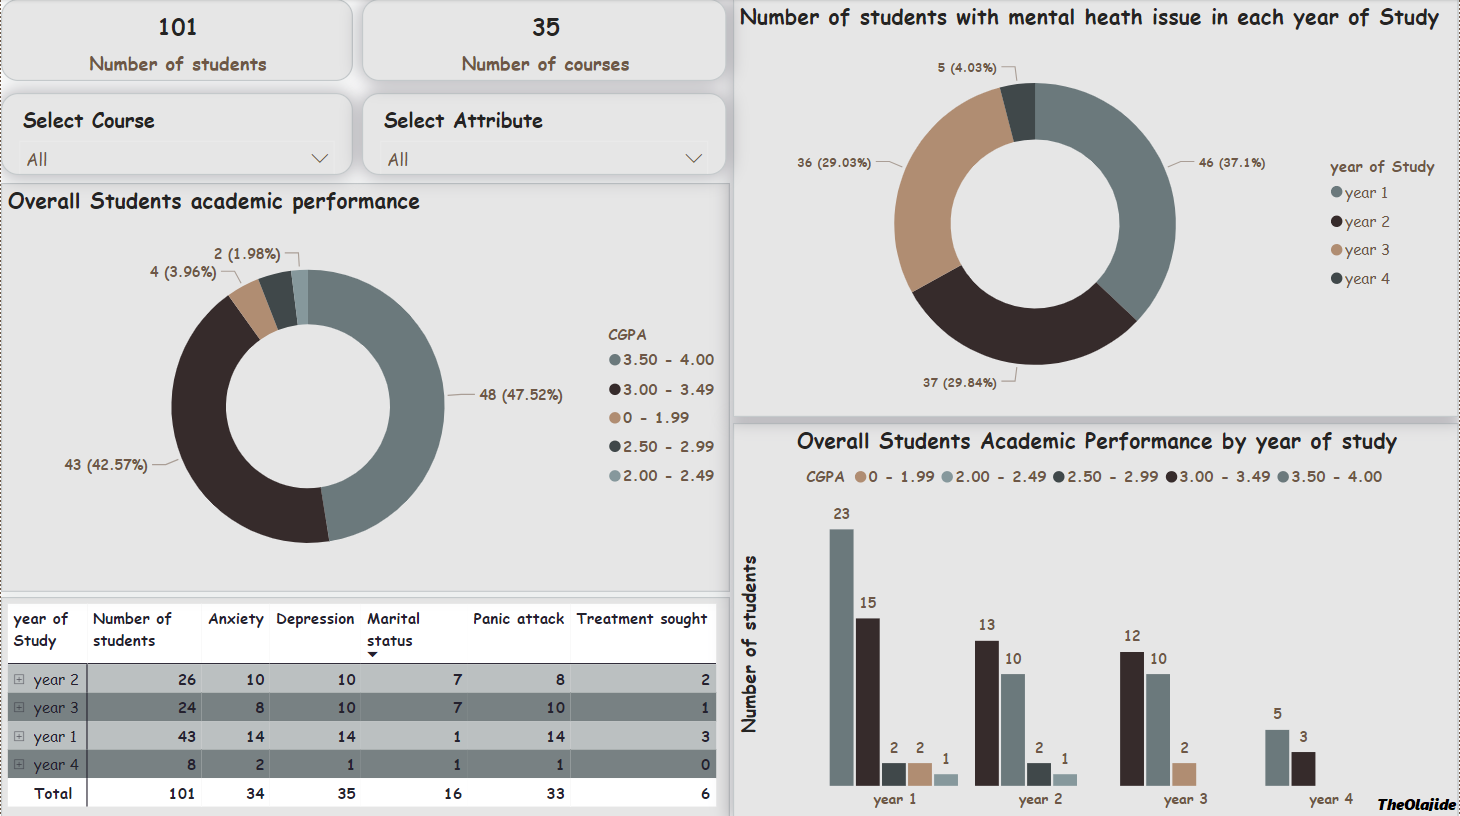

Layout of this report page (visuals, bound fields, positions):
{"tool":"powerbi","page":{"name":"Page 1","canvas":[1600,900],"ordinal":0},"visuals":[{"type":"donutChart","title":"Number of students with mental heath issue in each year of Study","fields":{"Category":["Student Mental health (2).year of Study"],"Y":["CountNonNull(Student Mental health (3).Attribute)"]},"box":[772,205.5,819.5,296.7],"z":0,"group":"g2"},{"type":"shape","box":[0,0,1600,81.5],"z":500,"group":"g1"},{"type":"pivotTable","title":"Mental Health Attributes","fields":{"Values":["CountNonNull(Student Mental health (2).Index)","Sum(Student Mental health (2).Anxiety2)","Sum(Student Mental health (2).Depression2)","Sum(Student Mental health (2).Marital status2)","Sum(Student Mental health (2).Panic attack2)","Sum(Student Mental health (2).Specialist treatment2)"],"Rows":["Student Mental health (2).year of Study","Student Mental health (2).gender"]},"box":[8.5,599.4,746.5,283.3],"z":2000},{"type":"donutChart","title":"Overall Students academic  performance","fields":{"Y":["CountNonNull(Student Mental health (2).Index)"],"Category":["Student Mental health (2).CGPA"]},"box":[8.8,205.2,746.3,378.7],"z":3000,"group":"g3"},{"type":"clusteredColumnChart","title":"Overall Students Academic Performance by year of study","fields":{"Category":["Student Mental health (2).year of Study"],"Y":["CountNonNull(Student Mental health (2).Index)"],"Series":["Student Mental health (2).CGPA"]},"box":[772,522.8,819.5,359.9],"z":4000},{"type":"slicer","fields":{"Values":["Student Mental health (2).course"]},"box":[1197.6,94.8,393.9,86.3],"z":5000},{"type":"card","title":"Total  Number of students","fields":{"Values":["CountNonNull(Student Mental health (2).Index)"]},"box":[8.5,94.8,362.3,86.3],"z":6000},{"type":"slicer","fields":{"Values":["Student Mental health (3).Attribute"]},"box":[773.3,94.8,408.5,86.3],"z":7000},{"type":"card","fields":{"Values":["Count(Student Mental health (2).course)"]},"box":[381.8,94.8,373.3,86.3],"z":8000},{"type":"image","box":[1033.4,7.3,62,68.1],"z":9000,"group":"g1"},{"type":"image","box":[1086.9,336.8,76.6,70.5],"z":10000,"group":"g2"},{"type":"group","id":"g1","title":"Group 2","box":[0,0,1600,81.5],"z":10002},{"type":"group","id":"g2","title":"Group 1","box":[772,205.5,819.5,296.7],"z":10003},{"type":"image","box":[343.6,383,75.7,84.5],"z":10005,"group":"g3"},{"type":"group","id":"g3","title":"Group 3","box":[8.8,205.2,746.3,378.7],"z":10006}]}

Visuals, with their boxes in screenshot pixels (x1, y1, x2, y2), scaled from the page's 1600x900 canvas onto the 1460x816 screenshot:
"Number of students with mental heath issue in each year of Study" donutChart: <box>704,186,1452,455</box>
shape: <box>0,0,1459,74</box>
"Mental Health Attributes" pivotTable: <box>8,543,689,800</box>
"Overall Students academic  performance" donutChart: <box>8,186,689,529</box>
"Overall Students Academic Performance by year of study" clusteredColumnChart: <box>704,474,1452,800</box>
slicer - Student Mental health (2).course: <box>1093,86,1452,164</box>
"Total  Number of students" card: <box>8,86,338,164</box>
slicer - Student Mental health (3).Attribute: <box>706,86,1078,164</box>
card - Count(Student Mental health (2).course): <box>348,86,689,164</box>
image: <box>943,7,1000,68</box>
image: <box>992,305,1062,369</box>
"Group 2" group: <box>0,0,1459,74</box>
"Group 1" group: <box>704,186,1452,455</box>
image: <box>314,347,383,424</box>
"Group 3" group: <box>8,186,689,529</box>
